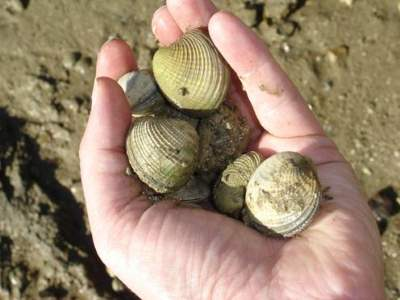cockle: (148, 27, 230, 116), (242, 150, 322, 240), (124, 115, 199, 194), (199, 101, 250, 177), (212, 150, 264, 214), (116, 69, 165, 114)
